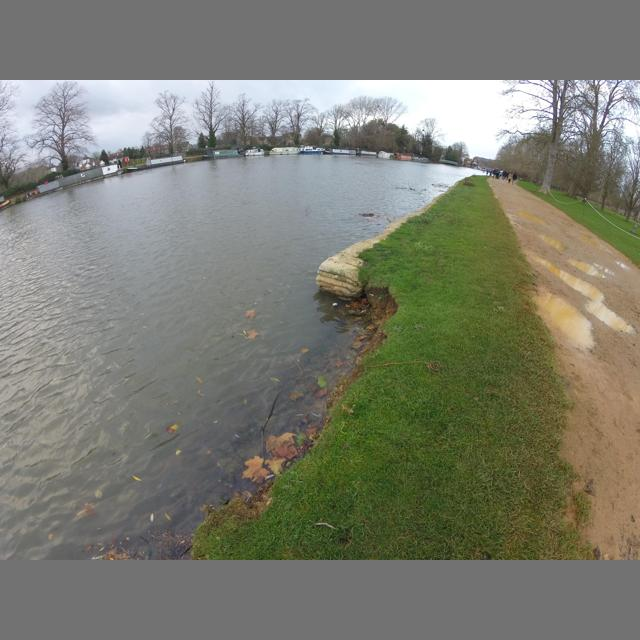litter: (333, 303, 337, 306)
